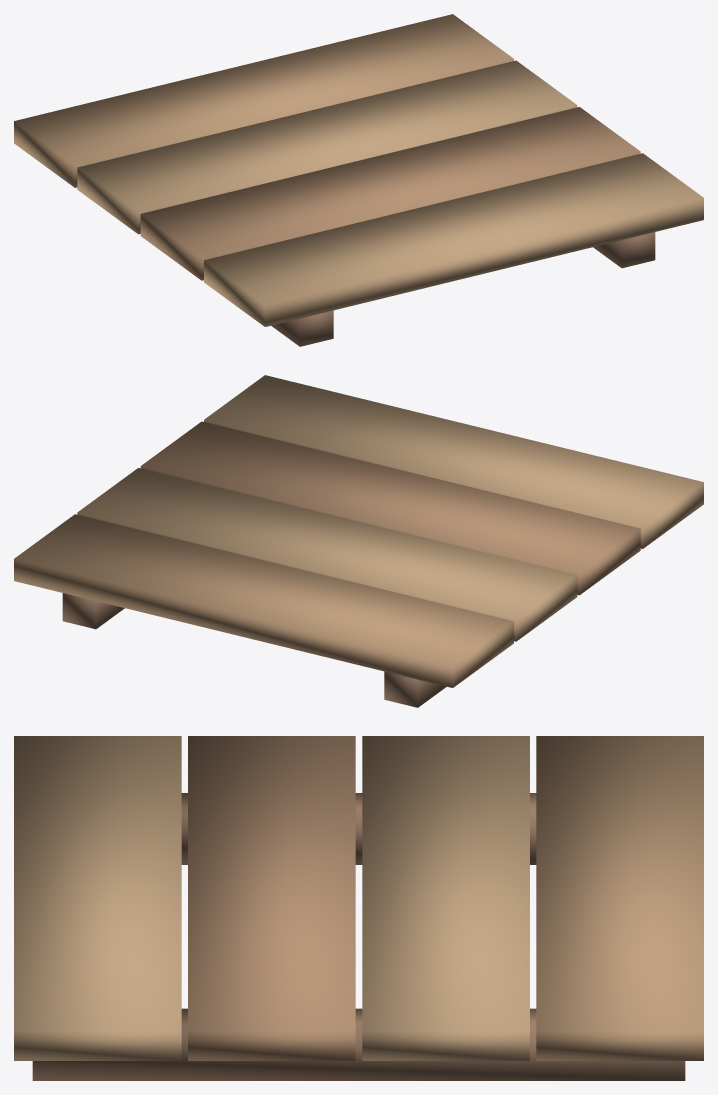
3 views of the same model, one above another, from view 1: azimuth 30°, elevation 25°; view 2: azimuth 150°, elevation 25°; view 3: azimuth 270°, elevation 25° (orthographic). The views are drawn at different scales.
Parts seen in each view (by area): view 1: world; view 2: world; view 3: world.
Boxes of the visible parts, x1,y1,x2,y2 form: world: (14,14,703,346); world: (14,375,703,707); world: (14,736,703,1080).
Bounding box in the file's own units: 1.96 × 0.2445 × 1.95.
